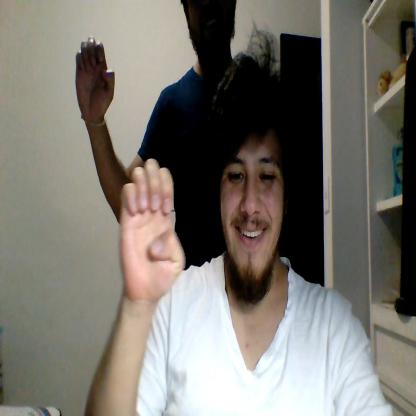E: (120, 158, 185, 300), (76, 36, 115, 122)
